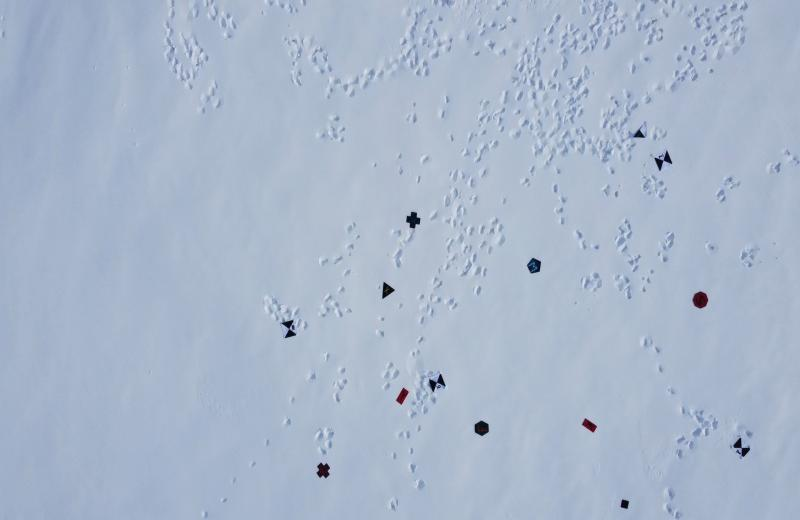Cross: (316, 460, 332, 480), (404, 210, 420, 230)
Hexagon: (473, 419, 490, 438)
Octagon: (692, 289, 710, 311)
Pentagon: (526, 258, 542, 276)
Rectangle: (394, 386, 412, 408), (581, 416, 599, 436)
Square: (620, 498, 631, 512)
Triangle: (379, 282, 397, 301)
